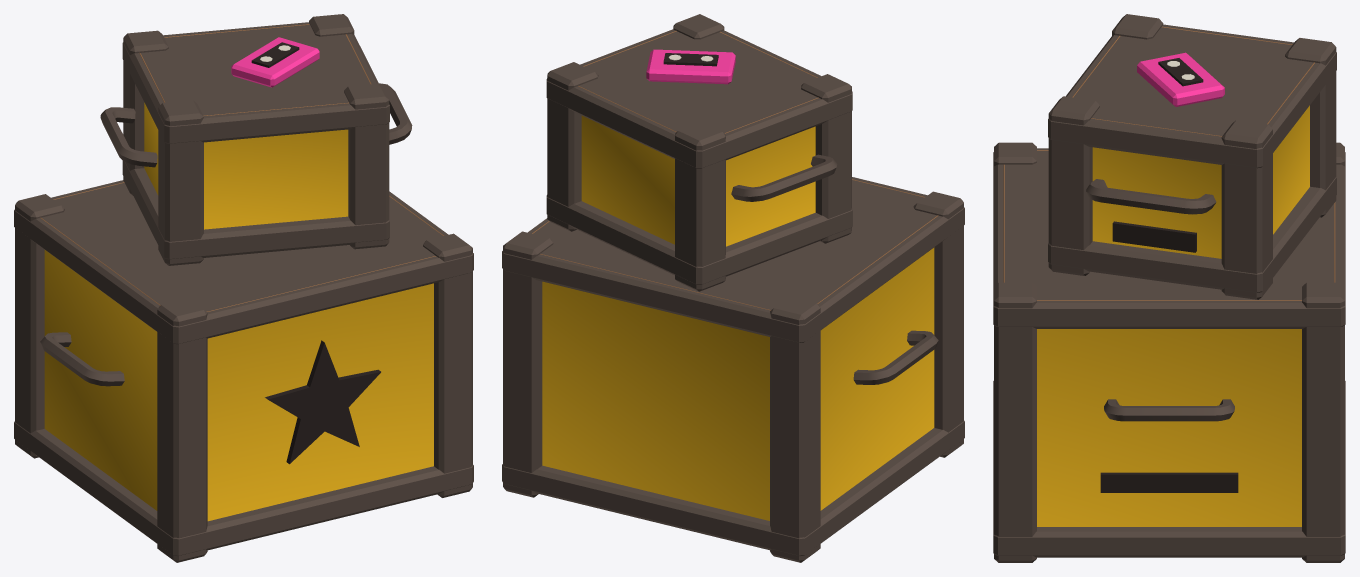
File: crate__upper.glb
3 renders of one model, left to right at view 1: azimuth 30°, elevation 25°; view 2: azimuth 150°, elevation 25°; view 3: azimuth 270°, elevation 25°, orthographic. The views are drawn at different scales.
Visible parts, largest first — view 1: Body; view 2: Body; view 3: Body.
Part boxes in pixels (box(x1,y1,x2,y2)): Body: box(14, 14, 473, 562); Body: box(502, 14, 964, 562); Body: box(993, 14, 1345, 562).
Bounding box in the file's own units: 0.7873 × 0.837 × 0.614.
